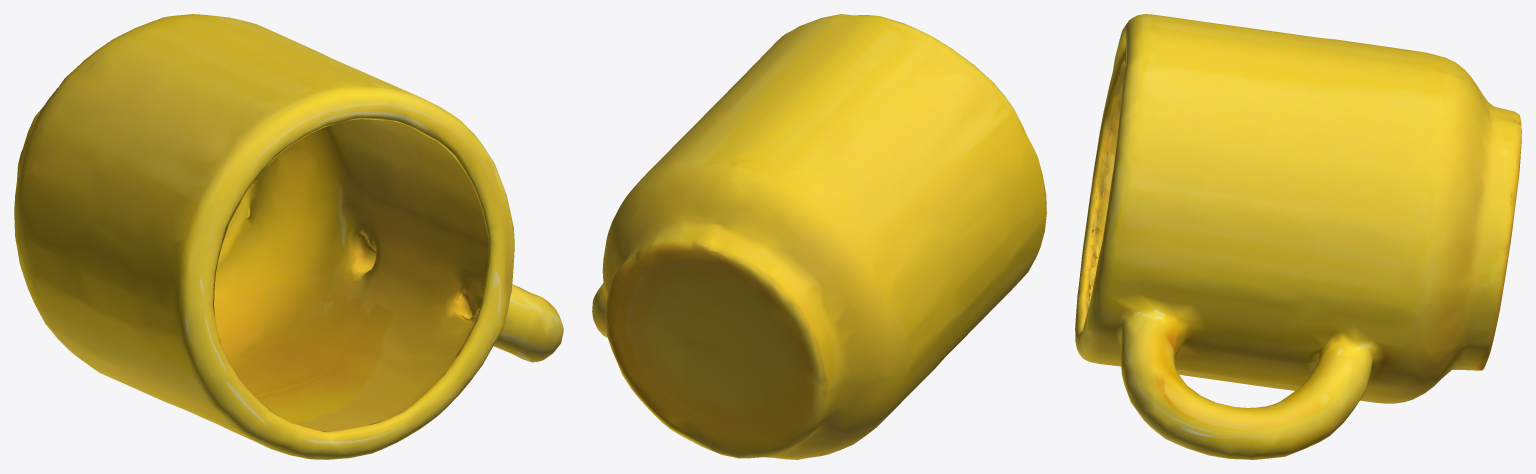
File: praseodimio.fbx
3 views of the same model, side by side, from view 1: azimuth 30°, elevation 25°; view 2: azimuth 150°, elevation 25°; view 3: azimuth 270°, elevation 25° (orthographic). The views are drawn at different scales.
Parts seen in each view (by area): view 1: Mesh_0.013; view 2: Mesh_0.013; view 3: Mesh_0.013.
Part boxes in pixels (<box>): Mesh_0.013: <box>14,14,563,459</box>; Mesh_0.013: <box>592,14,1046,459</box>; Mesh_0.013: <box>1075,14,1521,459</box>.
Bounding box in the file's own units: 0.3433 × 0.3023 × 0.34.
Materials: 1 (1 with a texture image).
